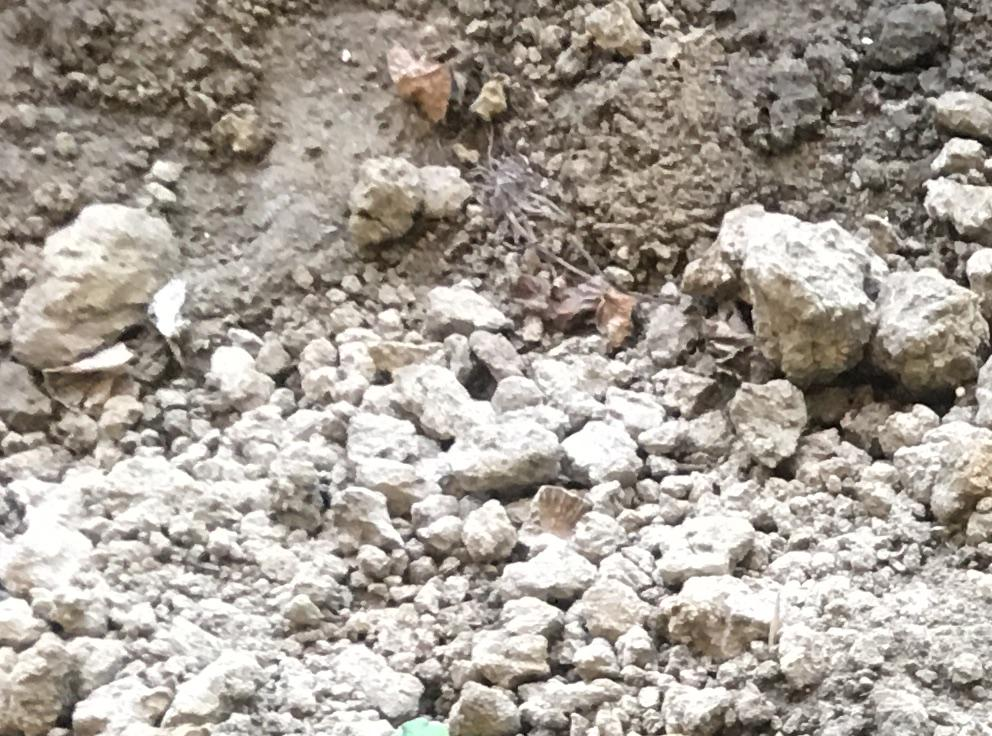block: (11, 202, 174, 366), (748, 217, 875, 384), (875, 268, 985, 394)
